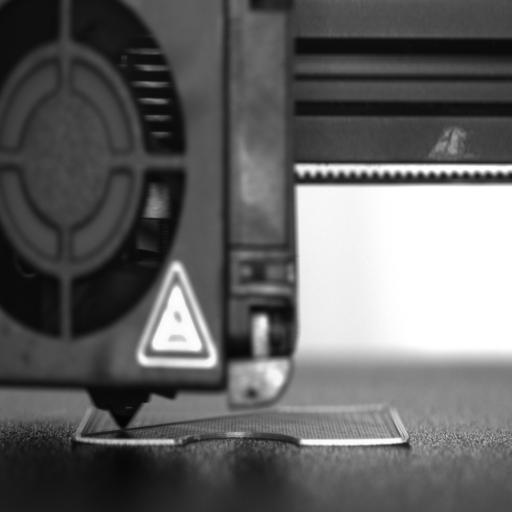warp: (73, 433, 187, 447)
